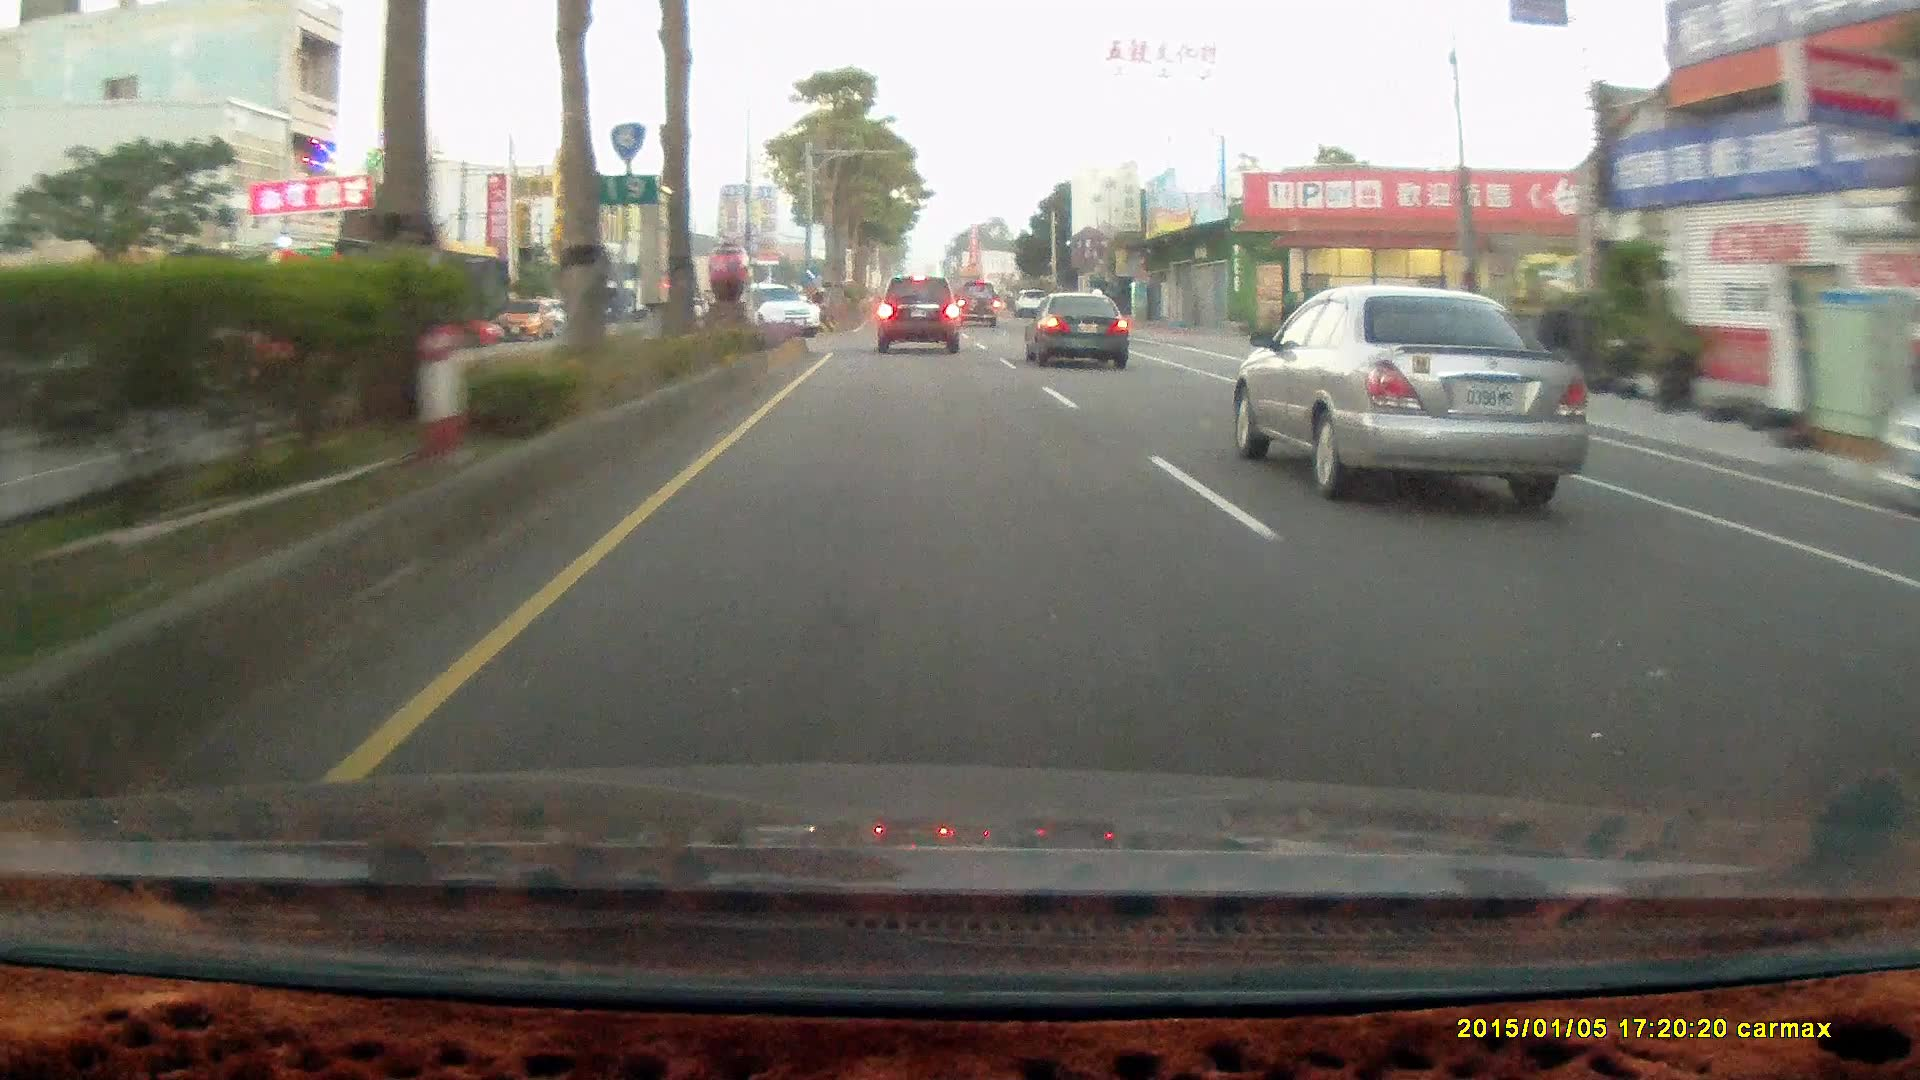vehicle: (1238, 286, 1582, 502), (1870, 328, 1919, 516), (1871, 328, 1920, 516), (1023, 291, 1133, 375), (1021, 289, 1127, 365), (877, 273, 965, 357), (363, 303, 509, 352), (876, 274, 957, 352), (742, 276, 822, 336), (750, 284, 822, 342), (952, 281, 1000, 331)
